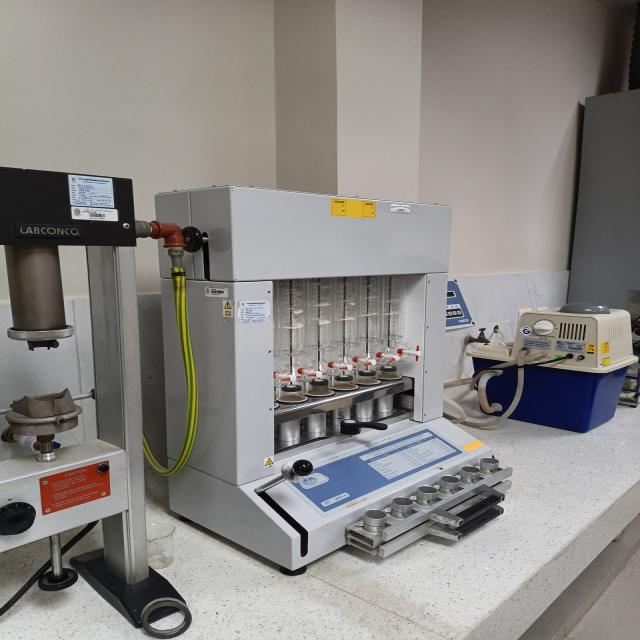Extractor de Laboratorio Automatico para Analisis de Grasas y Aceites: (157, 186, 510, 575)
